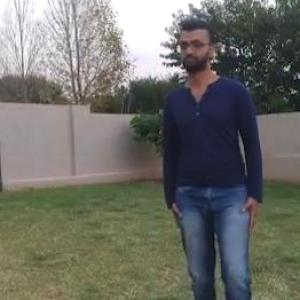follow: (159, 14, 269, 299)
